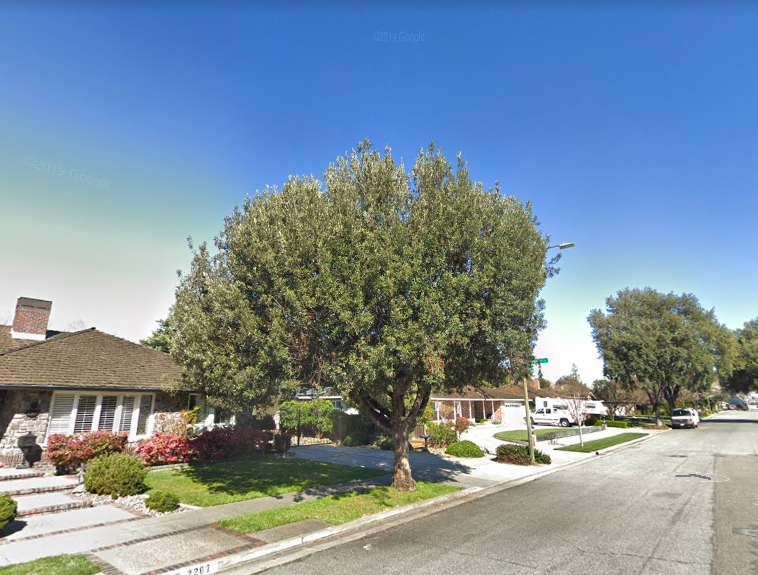tree: (162, 136, 563, 494)
